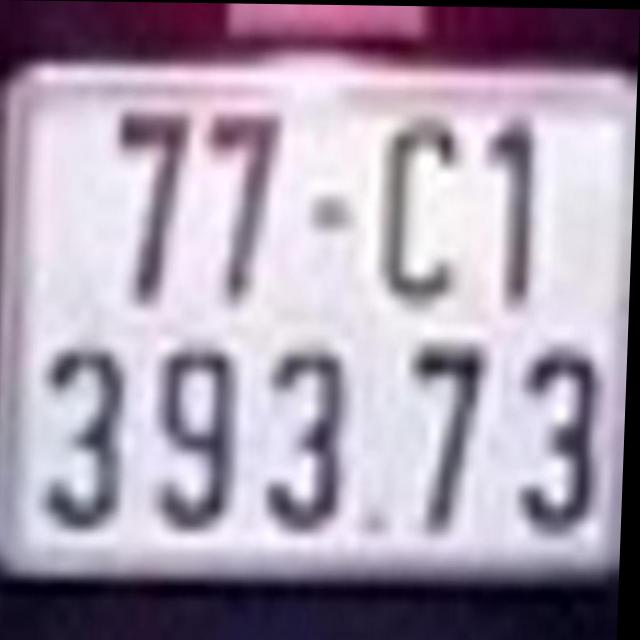1: (483, 108, 541, 290)
3: (265, 342, 353, 531), (521, 333, 602, 531), (50, 341, 129, 532)
7: (403, 338, 486, 539), (202, 109, 285, 299), (114, 102, 187, 310)
9: (154, 341, 246, 539)
C: (379, 112, 471, 302)
